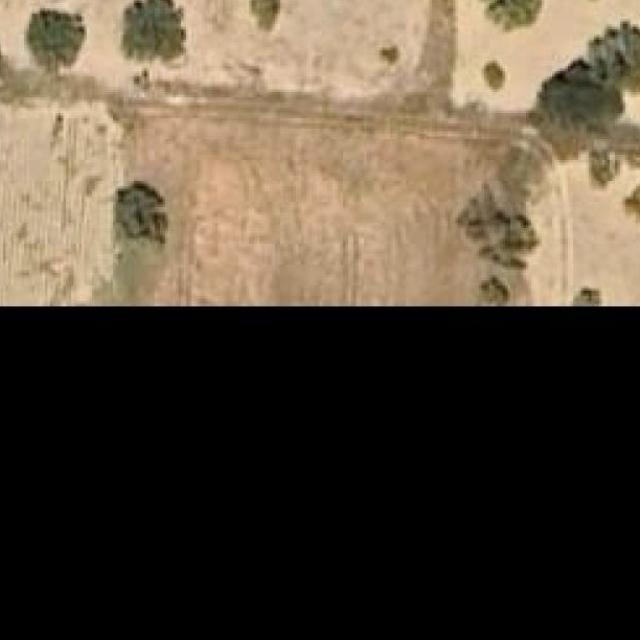Tree: (461, 184, 539, 267), (540, 64, 622, 141), (24, 10, 85, 81), (124, 0, 186, 64), (589, 21, 640, 96), (116, 181, 168, 244), (471, 0, 544, 32), (584, 139, 621, 188), (251, 0, 283, 29), (479, 275, 510, 304), (482, 59, 506, 93), (623, 181, 640, 223), (571, 289, 602, 304), (379, 45, 398, 64)
